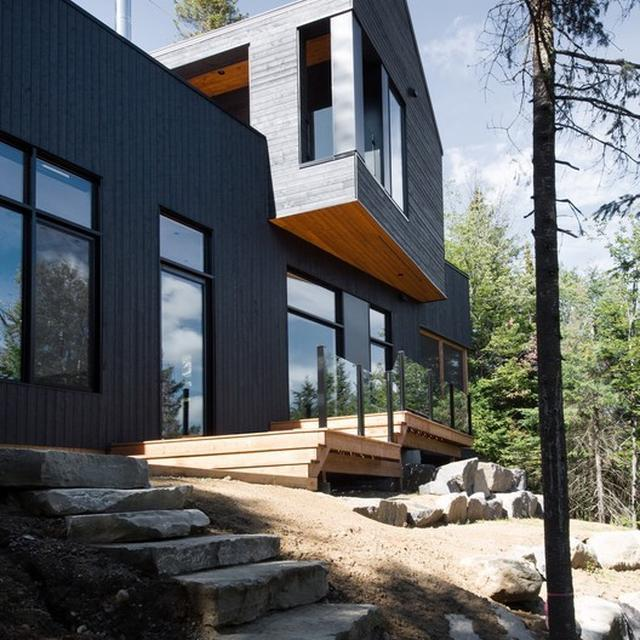building: (0, 0, 481, 457)
